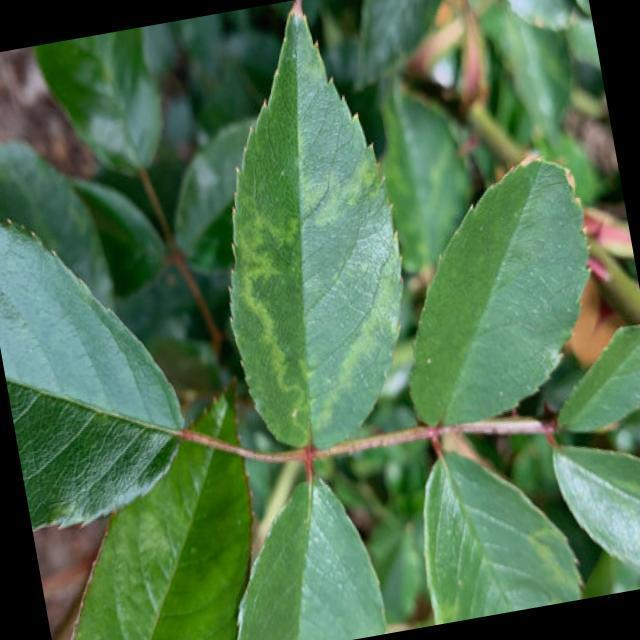Mosaic Virus: (210, 80, 416, 435)
